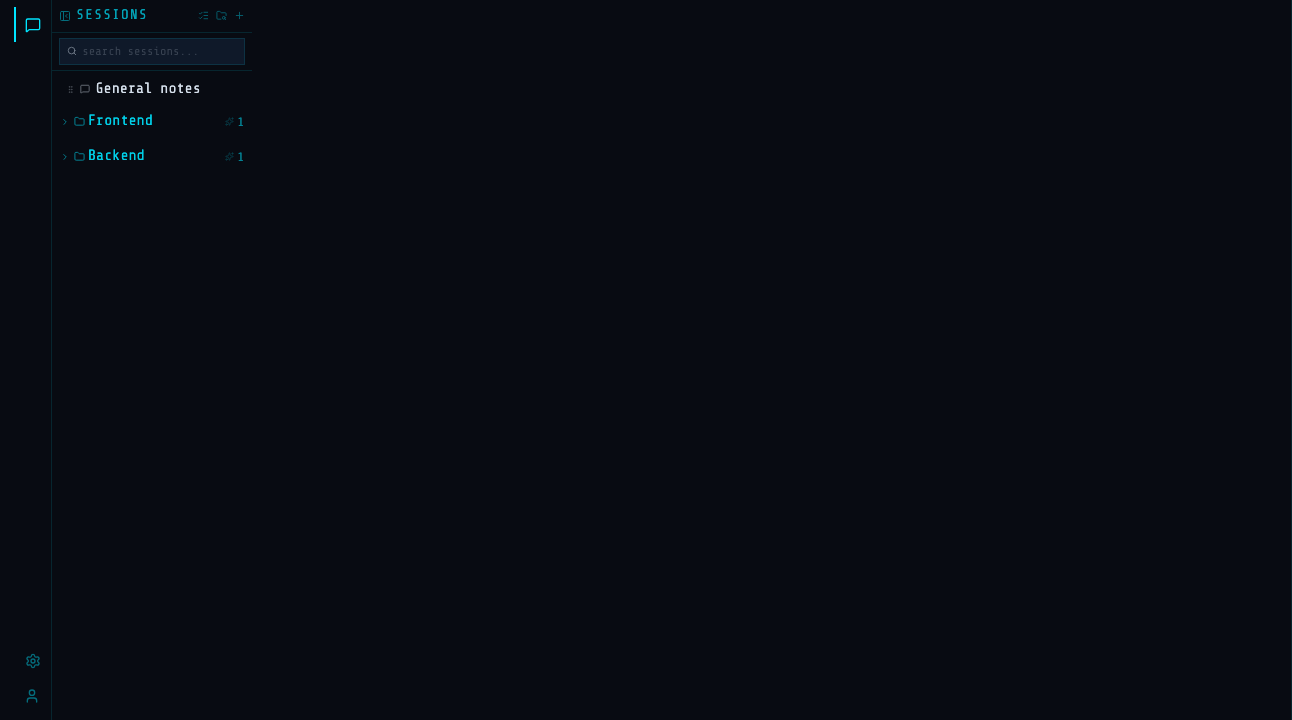
it: LeftSidebar › searches sessions across collapsed folders
In the search field labelled "search sessions": (160, 51) [82,39,237,64], type "rendering"
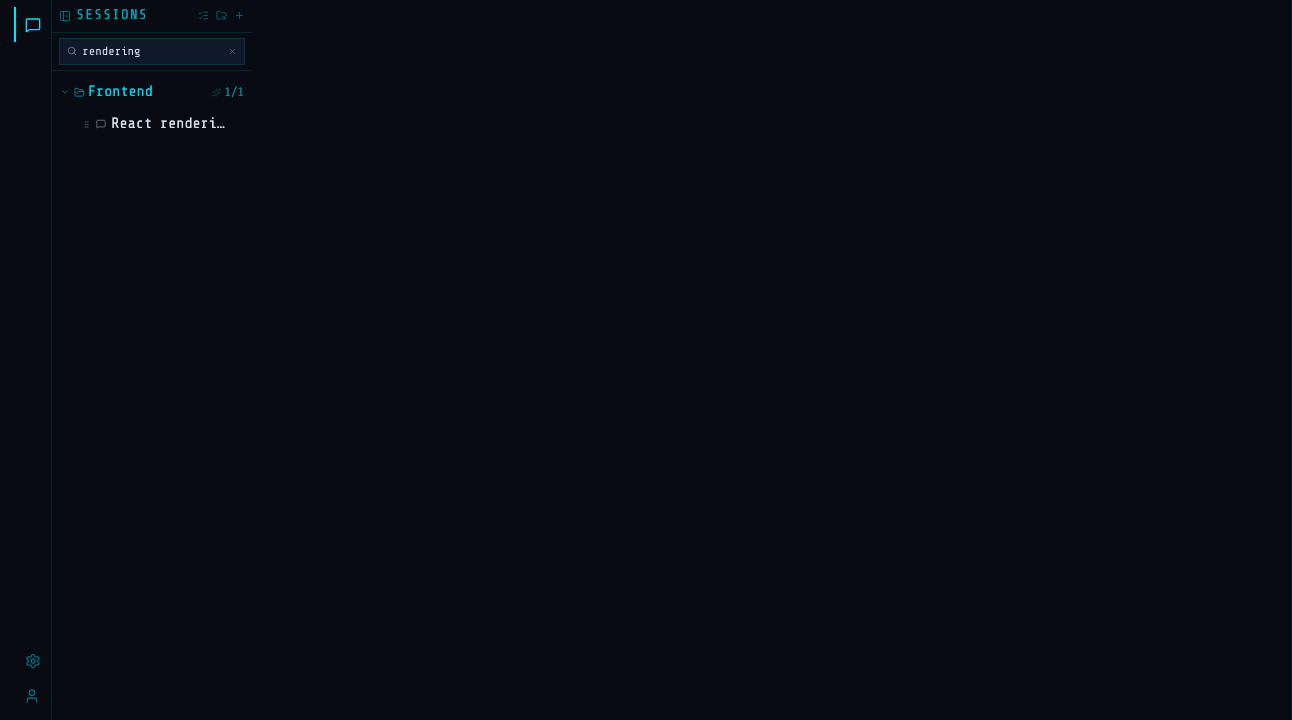
Expected: the text "React rendering bug" is shown, [112,113,231,136]
Expected: the text "General notes" is gone
